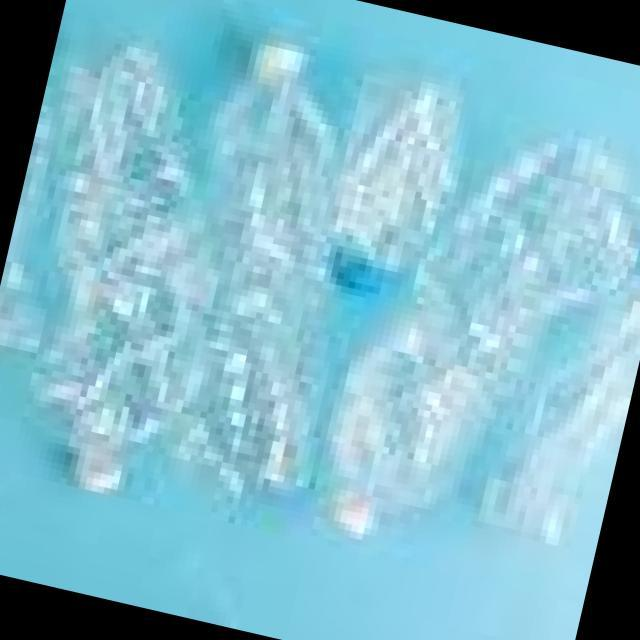defected: (297, 103, 640, 598), (0, 27, 269, 530), (138, 31, 388, 508), (463, 201, 640, 572), (306, 59, 475, 318)
